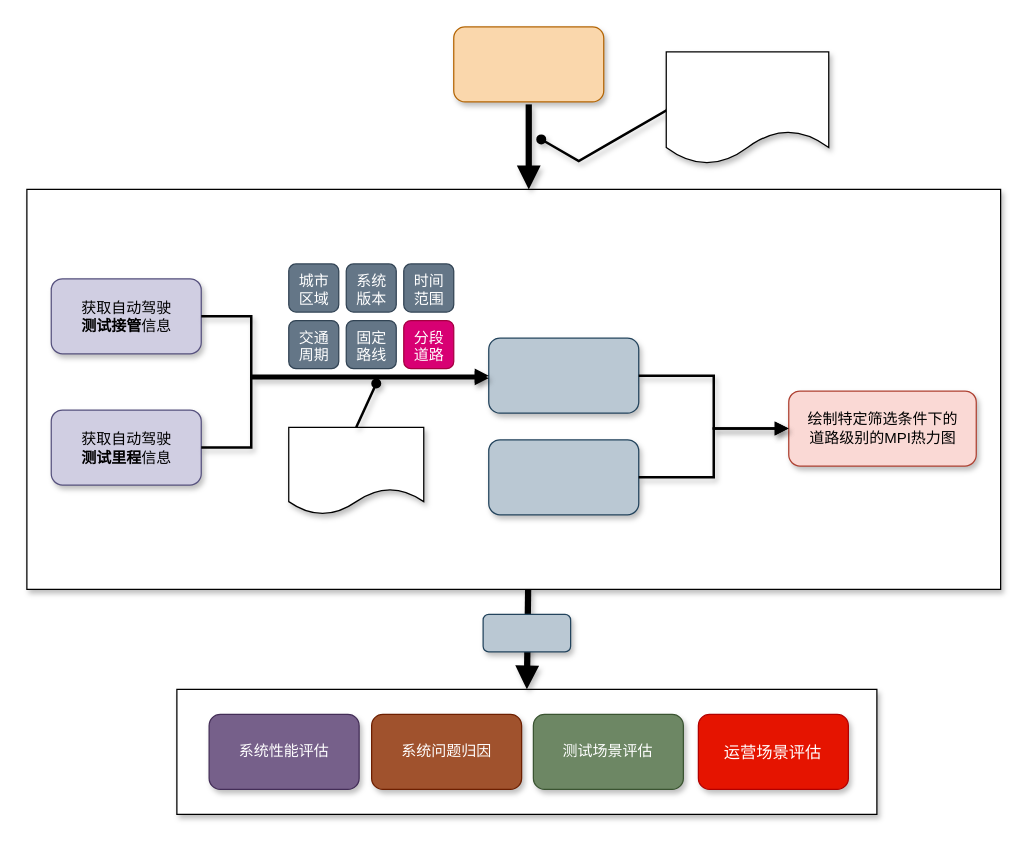
Some shapes in this 1030 by 845 pixel diagram are drawn without their labels. Here are the shapes that lost their labels. From the top down, the centre of each, then its label:
At (x=529, y=66): "自动驾驶 测试数据".
At (x=748, y=109): "包含每一段测试路程的 所属区域，线路，日期，交通周期以及自动驾驶系统版本号 信息".
At (x=564, y=377): "计算道路级别 MPI (Miles per Intervetion)".
At (x=356, y=472): "1. 指定聚合纬度 2. 指定筛选条件".
At (x=564, y=479): "道路坐标信息".
At (x=527, y=634): "应用场景".
